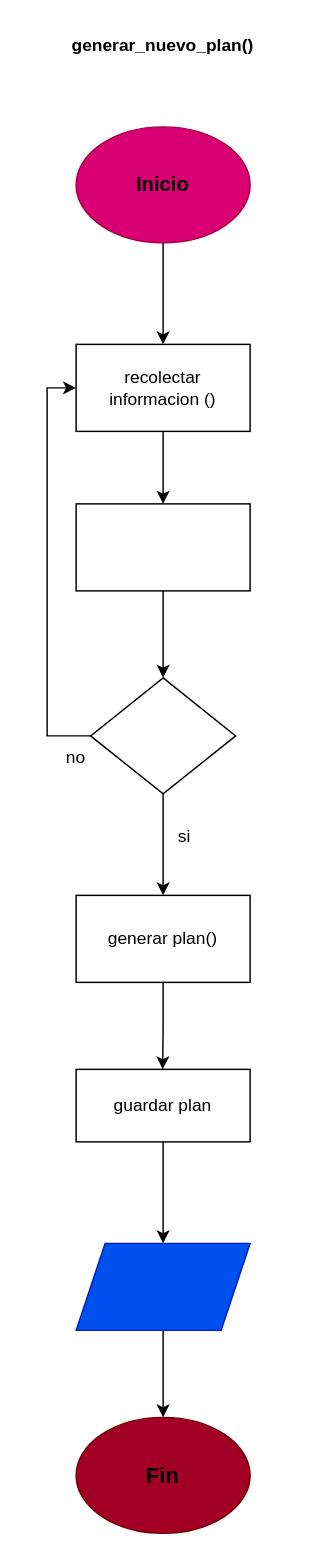
Some shapes in this 325 by 1559 pixel diagram are drawn without their labels. The box of each missing label's shape, as (x1, y1, x2, y2) in pixels:
Datos validos?: (89, 676, 236, 794)
Mostrar calendario: (75, 1242, 250, 1330)
verificar informacion: (75, 502, 250, 591)
